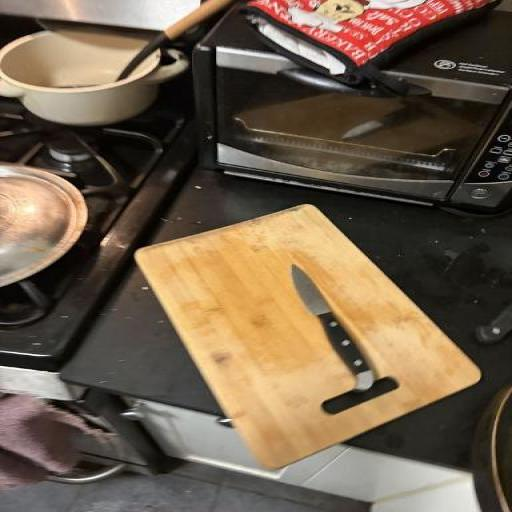Pan: (0, 22, 224, 136)
knife: (274, 256, 394, 402)
